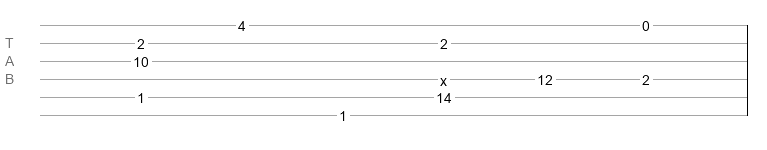0: (642, 18, 650, 28)
1: (137, 90, 145, 100), (339, 108, 347, 118)
10: (133, 54, 149, 64)
12: (537, 72, 553, 82)
14: (436, 90, 452, 100)
2: (137, 36, 145, 46), (440, 36, 448, 46), (642, 72, 650, 82)
4: (238, 18, 246, 28)
x: (440, 73, 447, 81)
